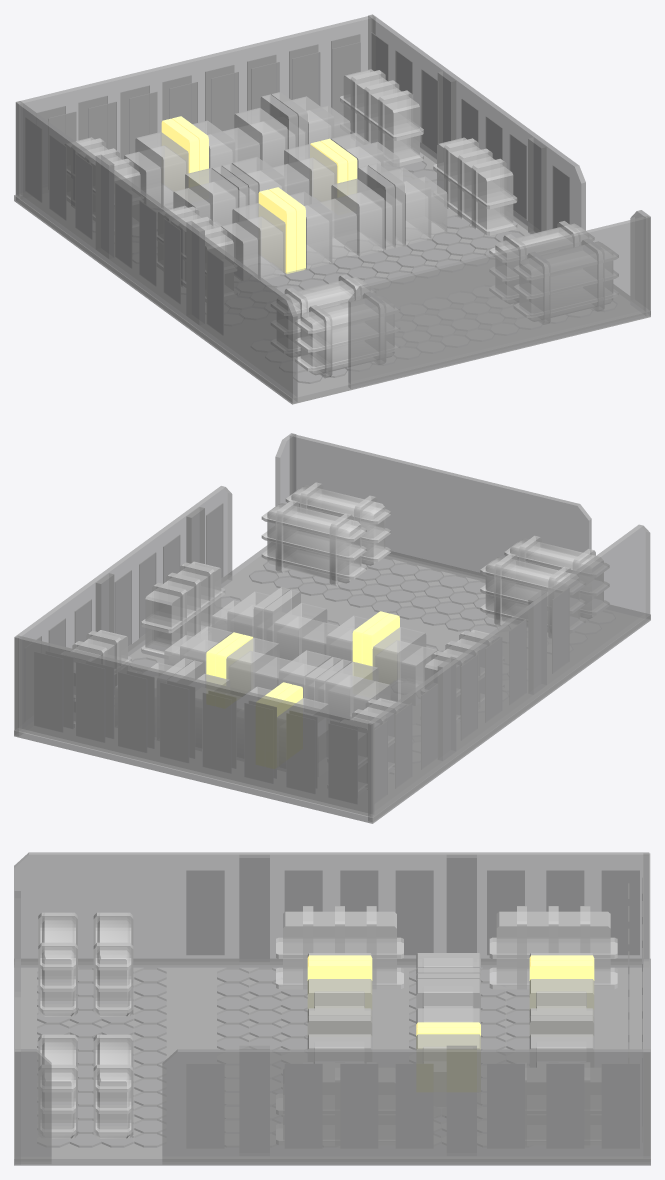
Rendered from hostspace.glb.
3 views of the same model, one above another, from view 1: azimuth 30°, elevation 25°; view 2: azimuth 150°, elevation 25°; view 3: azimuth 270°, elevation 25° (orthographic). The views are drawn at different scales.
Parts seen in each view (by area): view 1: 立方体.27, 立方体.30, 地面, 立方体.31, 立方体.29, rect3, rect1, rect2, 立方体.087, 立方体.056, 立方体.062, 立方体.081 (+80 smaller); view 2: 立方体.31, 立方体.30, 地面, 立方体.27, 立方体.29, rect3, 立方体.075, rect2, 立方体.056, 立方体.093, 立方体, 立方体.081 (+67 smaller); view 3: 立方体.29, 立方体.30, 地面, 立方体.068, 立方体.074, 立方体.28, 立方体.32, 立方体.001, 立方体.35, 立方体.36, 立方体.34, 立方体.37 (+64 smaller).
Boxes of the visible parts, x1,y1,x2,y2 form: 立方体.27: (348, 216, 650, 388); 立方体.30: (15, 101, 297, 403); 地面: (14, 143, 650, 404); 立方体.31: (16, 15, 375, 196); 立方体.29: (368, 14, 585, 230); rect3: (221, 176, 447, 280); rect1: (124, 105, 350, 207); rect2: (173, 141, 399, 227); 立方体.087: (300, 295, 394, 375); 立方体.056: (437, 137, 513, 230); 立方体.062: (343, 69, 419, 160); 立方体.081: (519, 241, 612, 321); 立方体.31: (15, 635, 373, 816); 立方体.30: (368, 524, 650, 821); 地面: (14, 545, 650, 823); 立方体.27: (290, 434, 591, 581); 立方体.29: (14, 486, 232, 736); rect3: (211, 600, 437, 705); 立方体.075: (267, 503, 361, 583); rect2: (164, 635, 390, 716); 立方体.056: (145, 561, 221, 652); 立方体.093: (485, 556, 579, 633); 立方体: (372, 627, 426, 702); 立方体.081: (291, 485, 385, 565); 立方体.29: (162, 1049, 650, 1164); 立方体.30: (14, 852, 649, 967); 地面: (14, 958, 650, 1165); 立方体.068: (496, 911, 610, 984); 立方体.074: (283, 911, 396, 984); 立方体.28: (15, 1049, 51, 1164); 立方体.32: (239, 854, 269, 964); 立方体.001: (186, 870, 224, 955); 立方体.35: (239, 1045, 269, 1152); 立方体.36: (186, 1064, 224, 1148); 立方体.34: (446, 1045, 476, 1152); 立方体.37: (285, 1064, 322, 1148).
Size of the model in its own units: 61.98 by 16.49 by 83.18.
